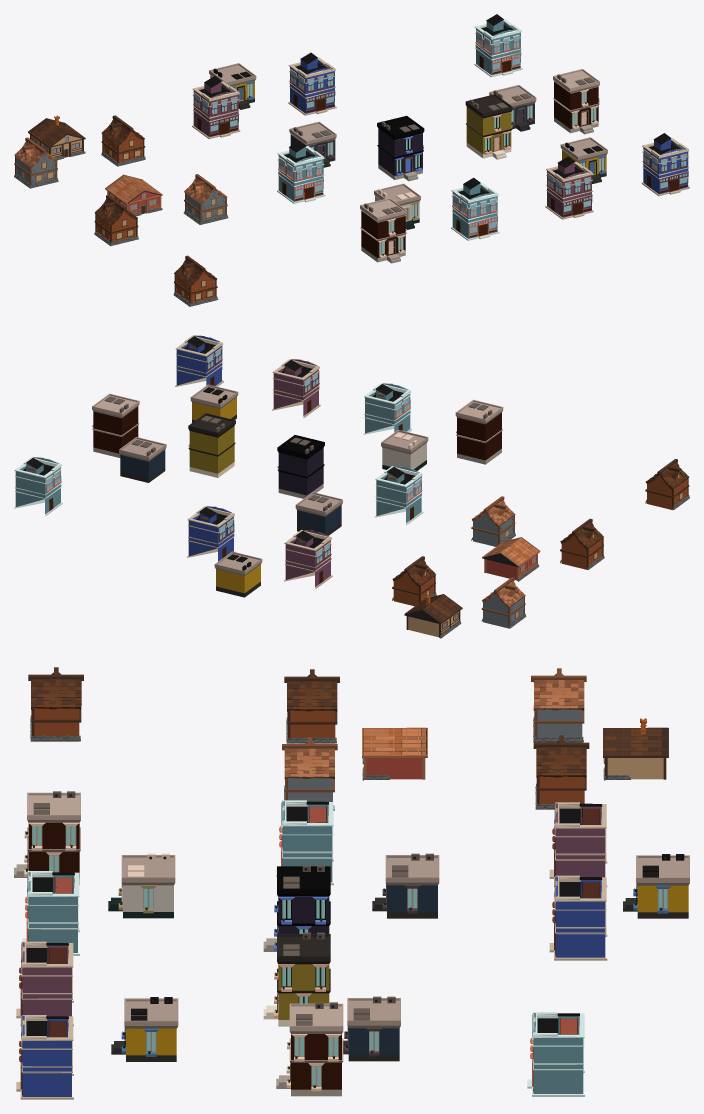
The picture shows the model from 3 angles, top to bottom: view 1: azimuth 30°, elevation 25°; view 2: azimuth 150°, elevation 25°; view 3: azimuth 270°, elevation 25°; orthographic projection. The views are drawn at different scales.
Visible parts, largest first — view 1: littleHouse2.001, littleHouse2.002, littleHouse2, littleHouse2.003, littleHouse3.004, littleHouse3.006, littleHouse3, littleHouse3.001, littleHouse3.002, littleHouse3.005, littleHouse3.003, Cube.021 (+11 smaller); view 2: littleHouse2.001, littleHouse2.002, littleHouse2, littleHouse2.003, littleHouse3.005, littleHouse3.003, littleHouse3.001, littleHouse3, littleHouse3.004, littleHouse3.002, littleHouse3.006, Cube.052 (+11 smaller); view 3: littleHouse2.003, littleHouse3.002, littleHouse2, littleHouse3.003, littleHouse3.004, littleHouse2.001, littleHouse3, littleHouse3.005, littleHouse2.002, littleHouse3.006, littleHouse.002, littleHouse.001 (+11 smaller).
Boxes of the visible parts, left/top/right/bottom form: littleHouse2.001: left=465, top=94, right=512, bottom=159; littleHouse2.002: left=377, top=115, right=424, bottom=181; littleHouse2: left=360, top=198, right=406, bottom=263; littleHouse2.003: left=553, top=69, right=599, bottom=134; littleHouse3.004: left=641, top=133, right=689, bottom=196; littleHouse3.006: left=451, top=177, right=499, bottom=240; littleHouse3: left=192, top=76, right=240, bottom=139; littleHouse3.001: left=277, top=140, right=325, bottom=203; littleHouse3.002: left=288, top=52, right=336, bottom=115; littleHouse3.005: left=545, top=156, right=593, bottom=219; littleHouse3.003: left=474, top=14, right=522, bottom=77; Cube.021: left=101, top=115, right=145, bottom=166; littleHouse2.001: left=188, top=413, right=235, bottom=477; littleHouse2.002: left=277, top=435, right=324, bottom=498; littleHouse2: left=455, top=399, right=503, bottom=464; littleHouse2.003: left=92, top=393, right=139, bottom=457; littleHouse3.005: left=272, top=359, right=320, bottom=417; littleHouse3.003: left=14, top=457, right=62, bottom=515; littleHouse3.001: left=374, top=466, right=423, bottom=524; littleHouse3: left=284, top=530, right=332, bottom=588; littleHouse3.004: left=175, top=335, right=223, bottom=386; littleHouse3.002: left=187, top=506, right=235, bottom=561; littleHouse3.006: left=363, top=383, right=411, bottom=434; Cube.052: left=404, top=594, right=462, bottom=638; littleHouse2.003: left=276, top=1002, right=343, bottom=1096; littleHouse3.002: left=549, top=875, right=607, bottom=960; littleHouse2: left=14, top=791, right=80, bottom=884; littleHouse3.003: left=527, top=1012, right=584, bottom=1096; littleHouse3.004: left=16, top=1015, right=73, bottom=1099; littleHouse2.001: left=263, top=932, right=330, bottom=1026; littleHouse3: left=549, top=802, right=607, bottom=887; littleHouse3.005: left=16, top=941, right=73, bottom=1026; littleHouse2.002: left=263, top=865, right=330, bottom=951; littleHouse3.006: left=22, top=871, right=79, bottom=955; littleHouse.002: left=108, top=853, right=175, bottom=918; littleHouse.001: left=372, top=853, right=439, bottom=918.
Size of the model in its own units: 8952 by 813 by 6750.
